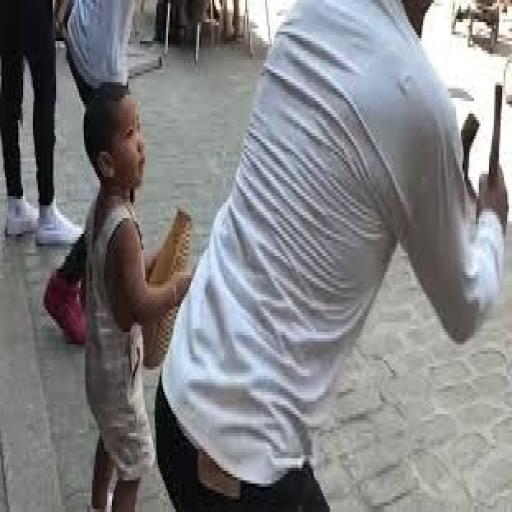dancing: (152, 0, 508, 509)
